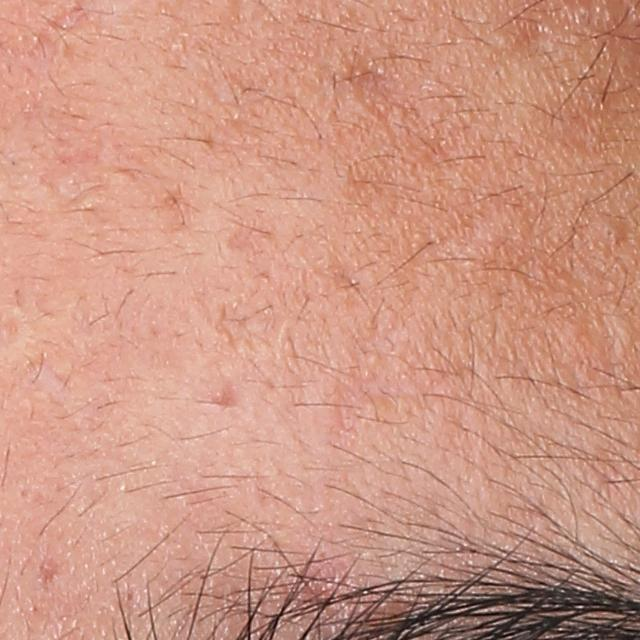atrophic_scar: (40, 552, 60, 585)
comedo: (600, 220, 623, 245)
